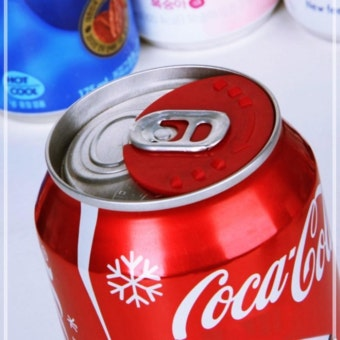paper: (20, 56, 340, 340)
